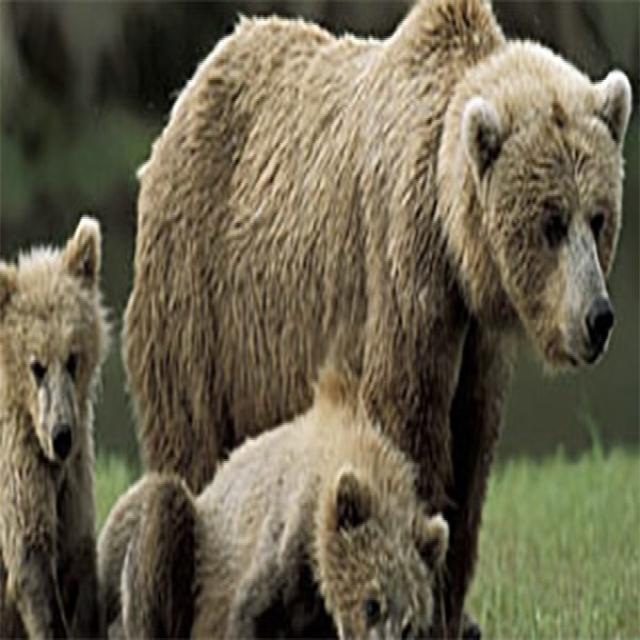bear: (124, 0, 630, 634), (98, 398, 447, 638), (0, 215, 111, 636)
